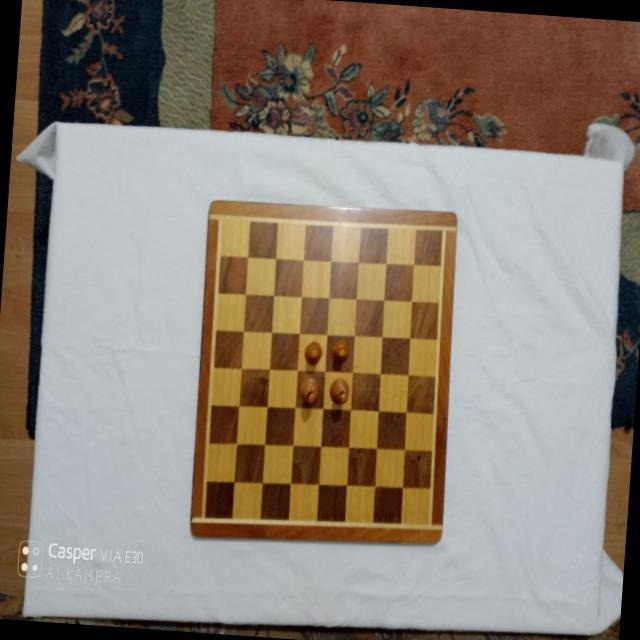white-bishop: (298, 375, 320, 404), (328, 376, 350, 405)
white-pawn: (302, 340, 322, 365), (330, 339, 350, 364)
